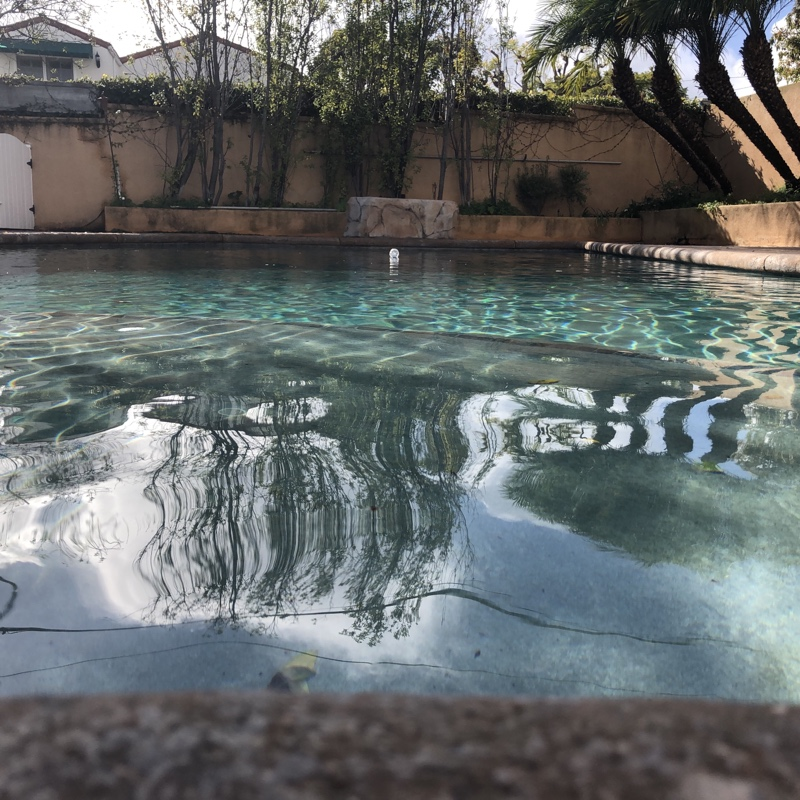Plastic Bottle: (386, 247, 401, 265)
